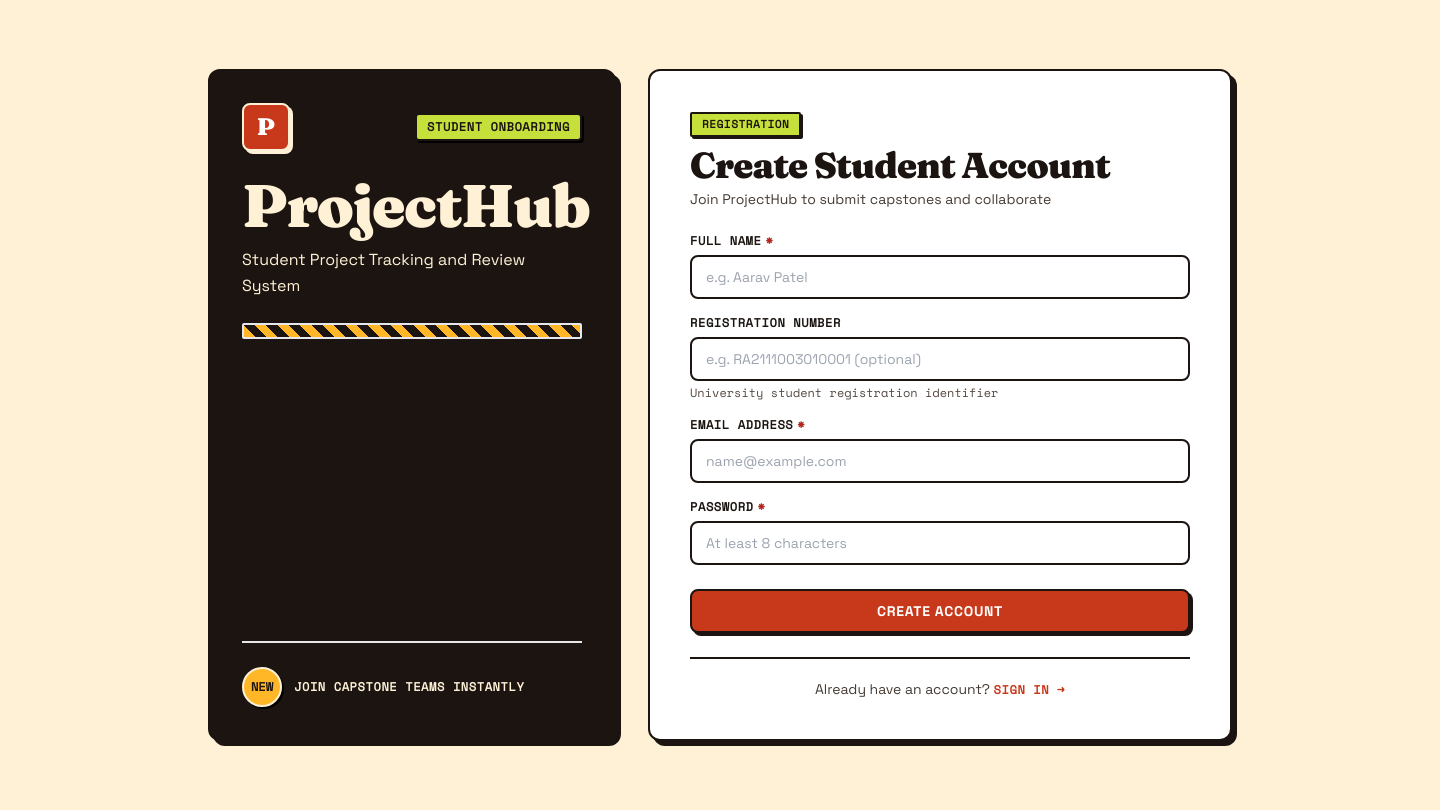
it: Auth Forms Validation and Submission › RegisterPage › submits valid registration and displays API error on duplicate email
Type "Diya Rao" into the field labelled "Full name*" at (940, 277), box [690, 255, 1190, 299]
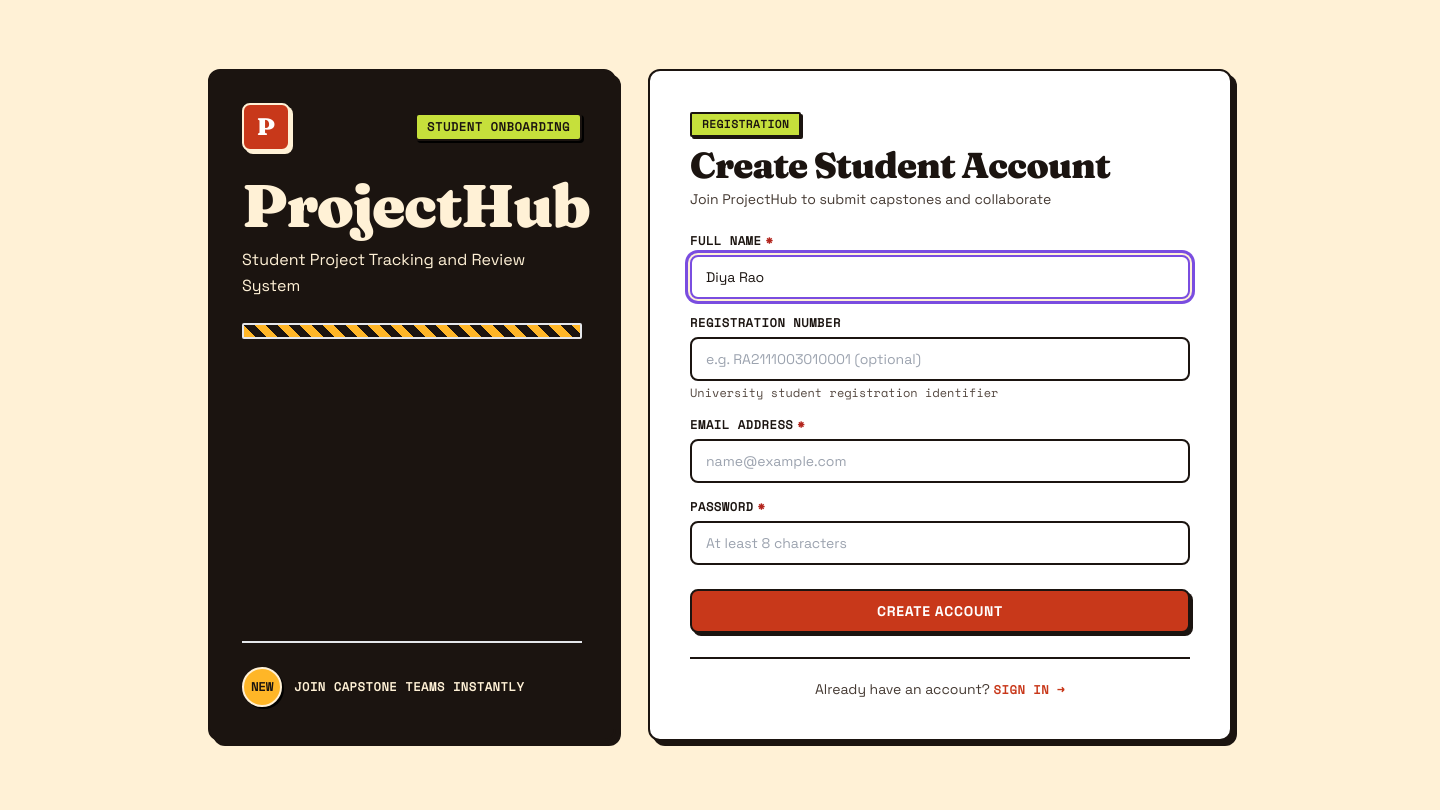
Type "rao@demo.projecthub.test" into the field labelled "Email address*" at (940, 461), box [690, 439, 1190, 483]
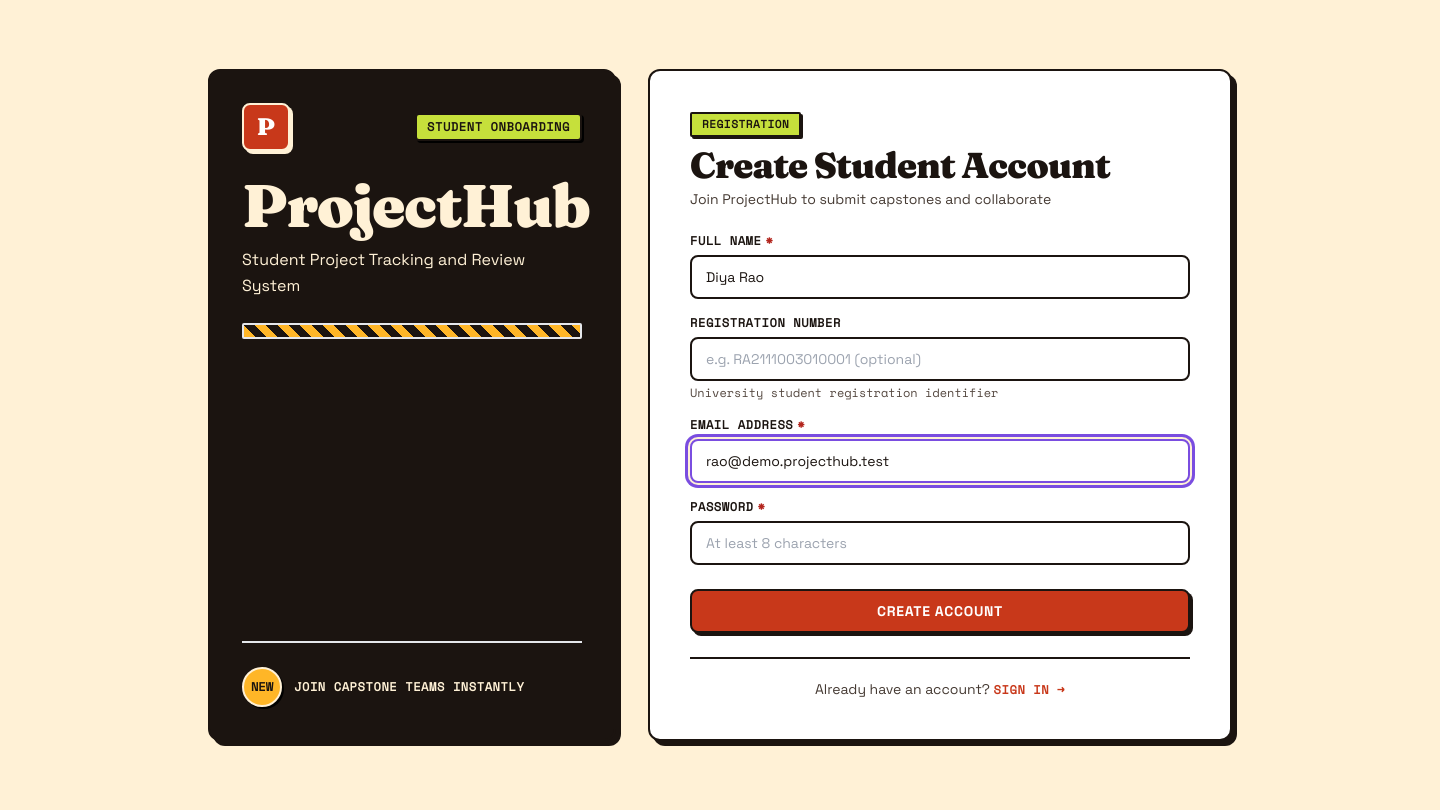
Type "ValidPass123!" into the password field labelled "Password*" at (940, 543), box [690, 521, 1190, 565]
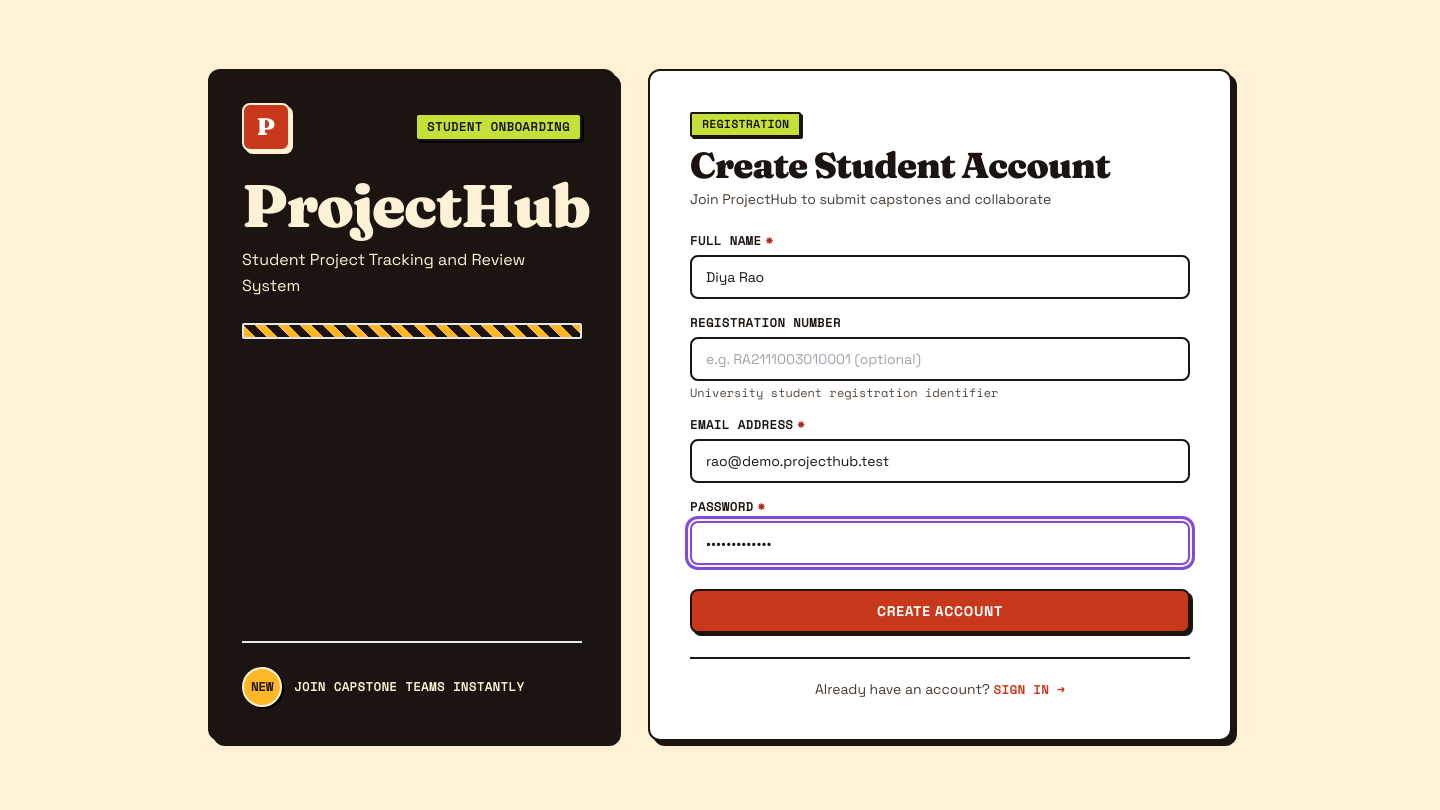
Type "RA211100301002" into the field labelled "Registration number" at (940, 359), box [690, 337, 1190, 381]
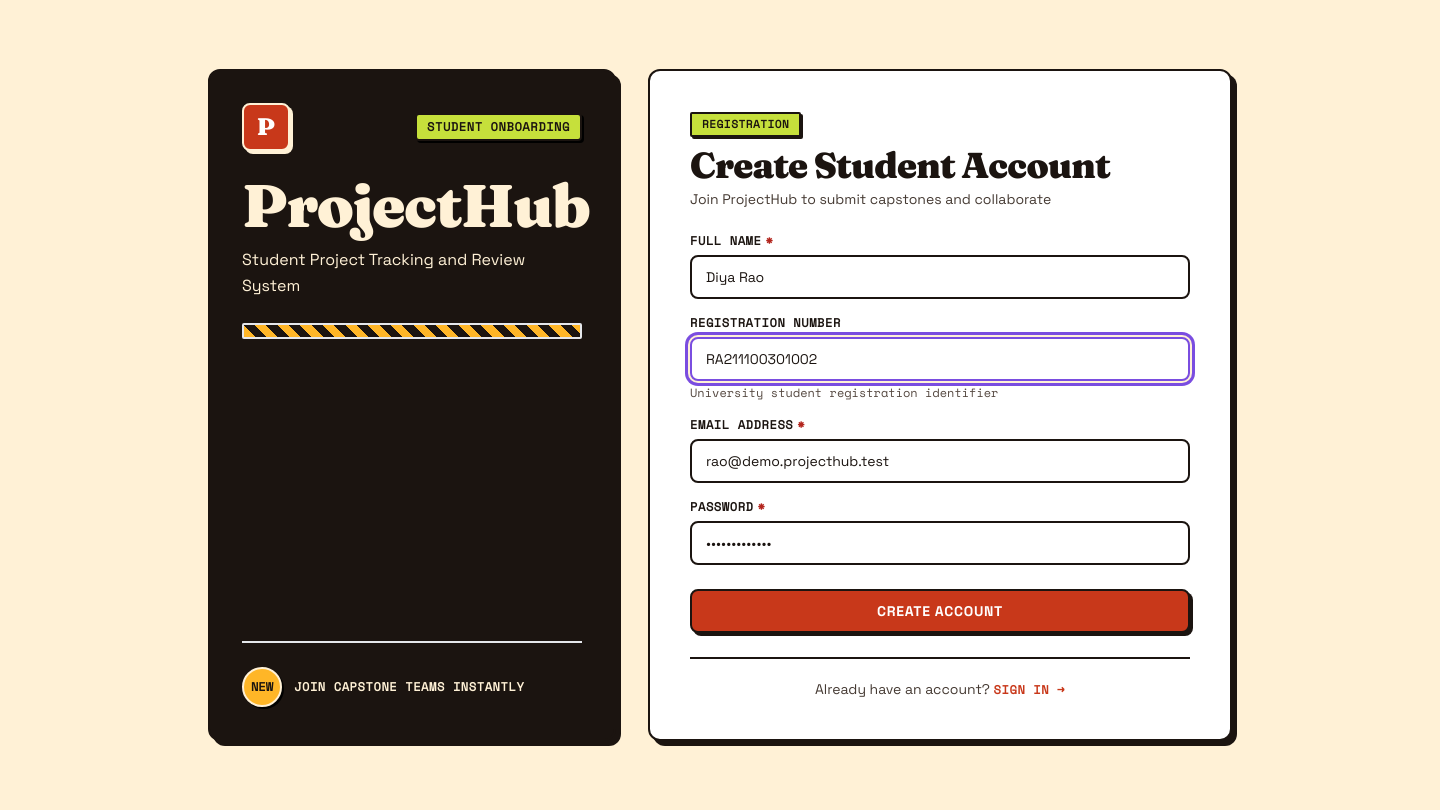
Click the button "Create Account" at (940, 611), box [690, 589, 1190, 633]
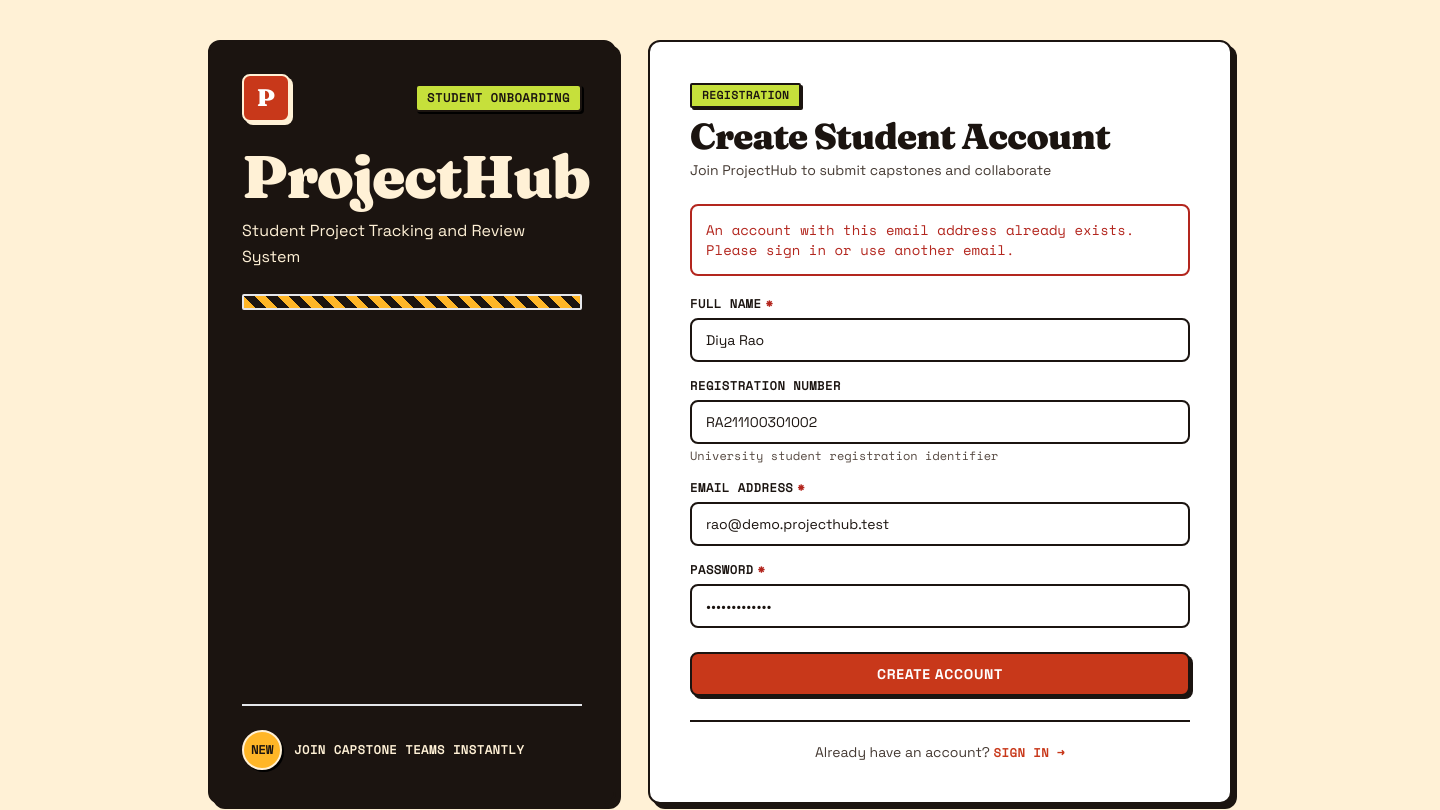
Result: the text "already exists" is shown at [706, 218, 1134, 260]
